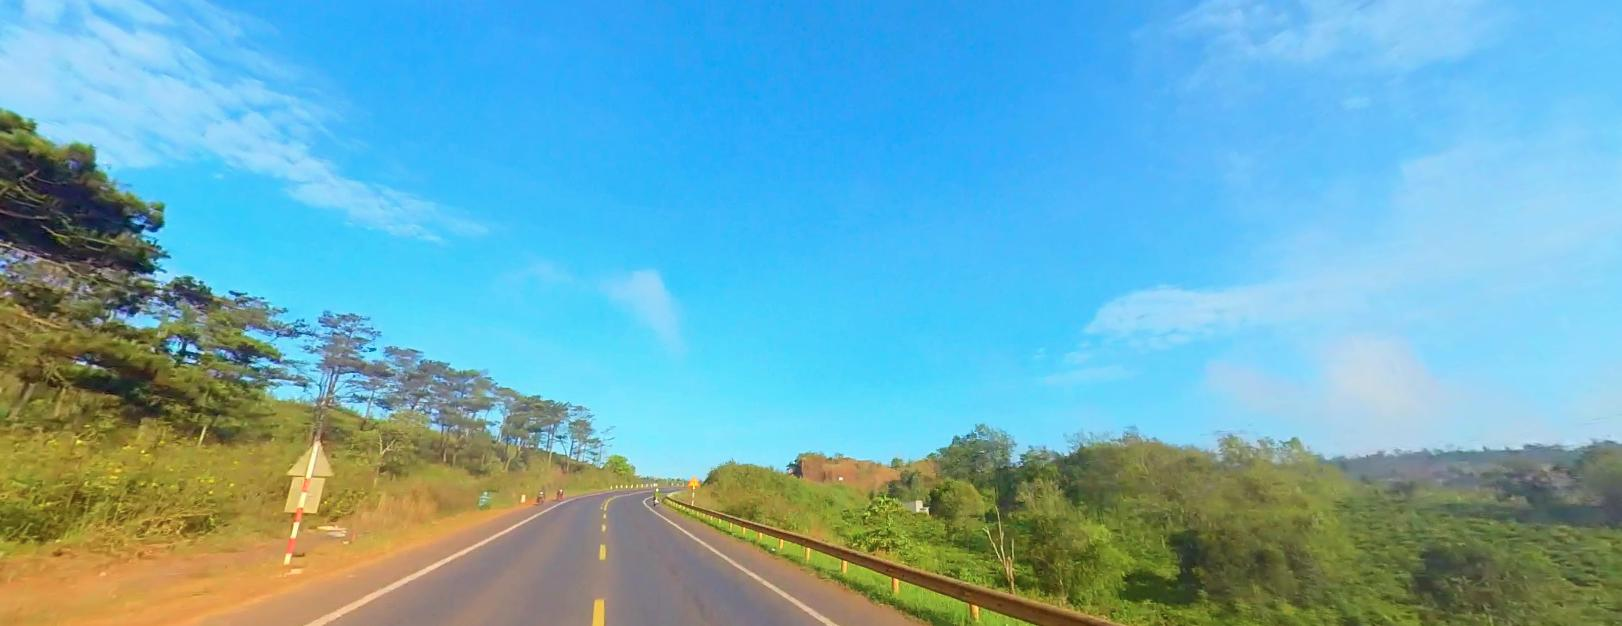Nguy hiem: (687, 475, 699, 485), (688, 475, 699, 485)
